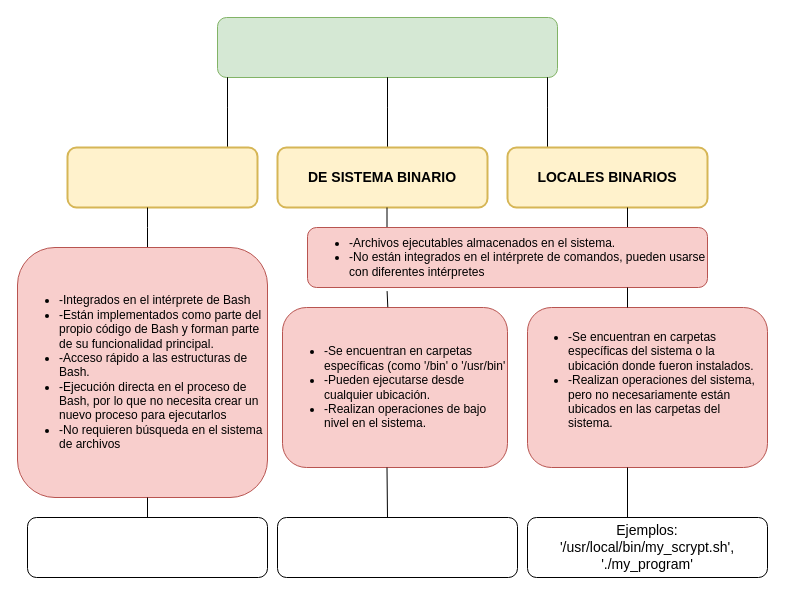
Some shapes in this 785 by 595 pixel diagram are drawn without their labels. Here are the shapes that lost their labels. From the top down, the centre of each, then its label:
At (x=387, y=47): "CATEGORIZACIÓN DE COMANDOS".
At (x=162, y=177): "INTERNOS".
At (x=147, y=547): "Ejemplos: cd, echo, pwd, export, unset, exit".
At (x=397, y=547): "Ejemplos: ls, cp, mv, rm, grep, awk".
